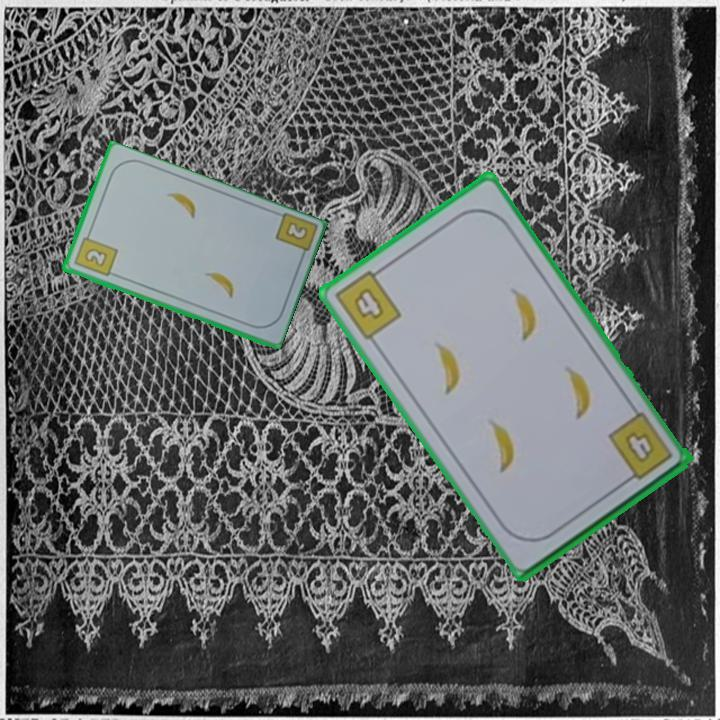2b: (70, 229, 120, 280), (271, 210, 318, 264)
4b: (330, 262, 404, 343), (622, 427, 654, 462)
